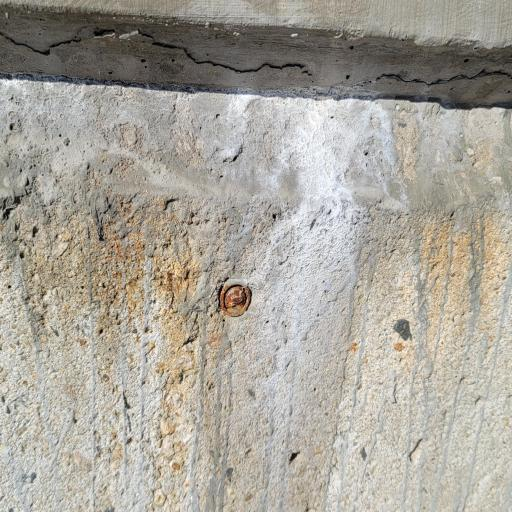exposed_rebar: (220, 279, 251, 316)
